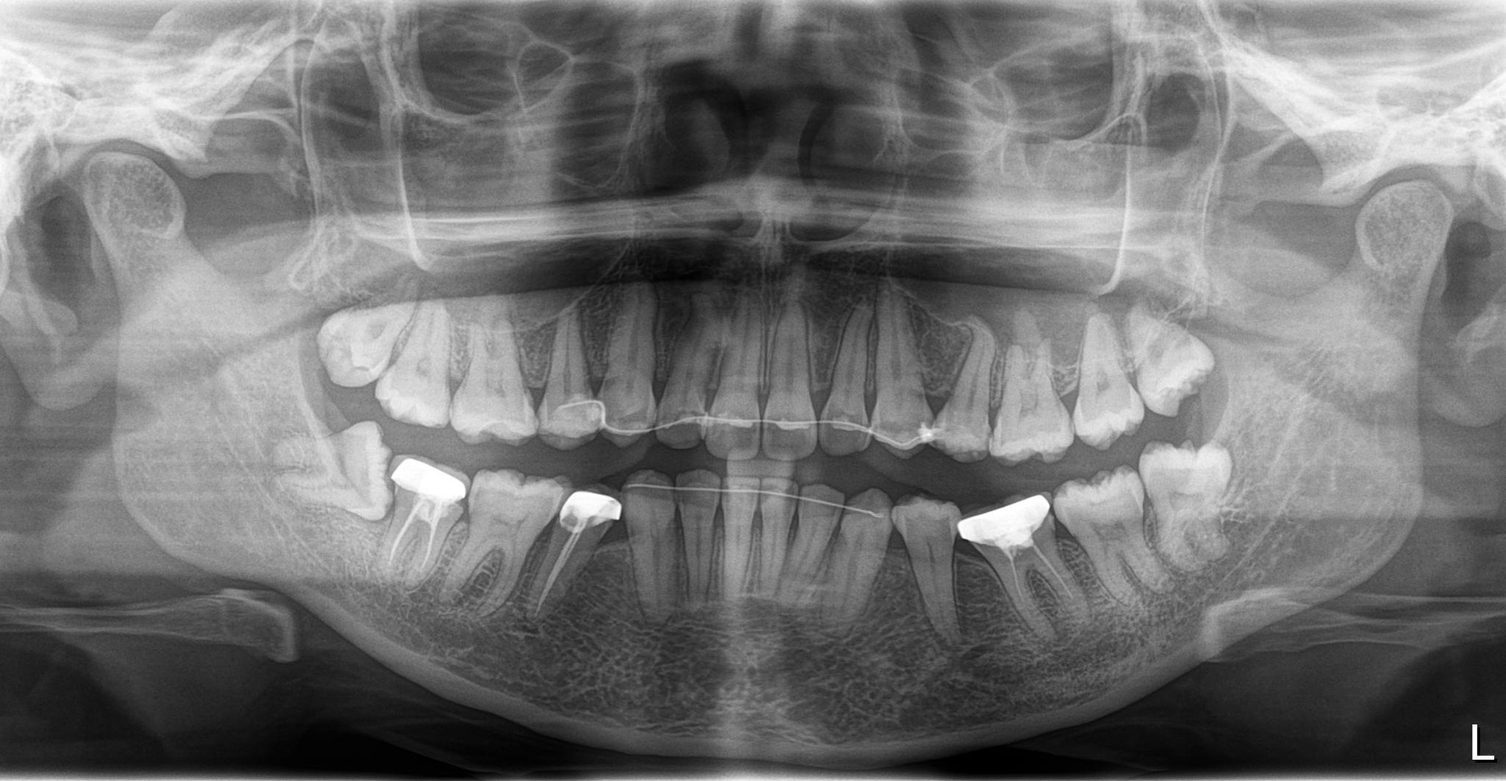Endodontically Treated Tooth: (974, 509, 1079, 633), (547, 487, 617, 629), (386, 452, 461, 583)
Impacted Third Molar: (265, 428, 393, 529)
